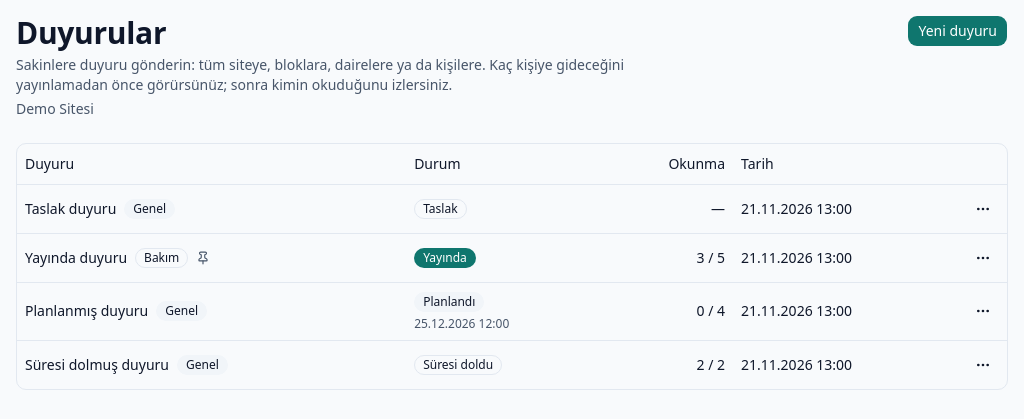
Duyurular (admin): the list › offers the right actions for a draft and for a published announcement
The image size is (1024, 419).
Click the button named "“Taslak duyuru” için işlemler" at (983, 208), box [967,192,999,224]
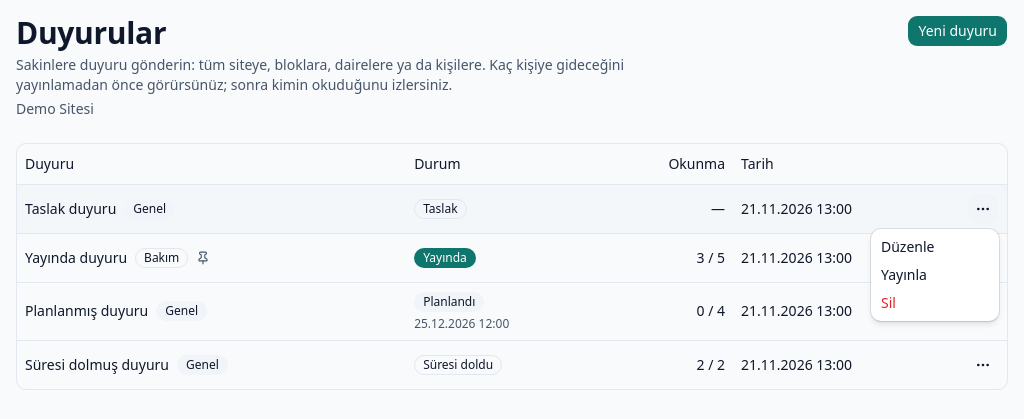
Expected: the menu item "Okuma raporu" is not shown
Expected: the menu item "Yayınla" is shown, [881,265,927,284]
Press Escape
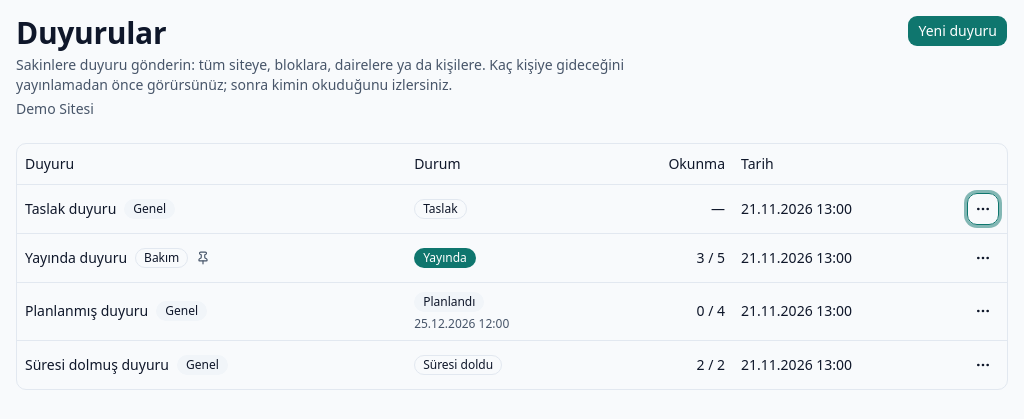
Click the button named "“Yayında duyuru” için işlemler" at (983, 258), box [967,242,999,274]
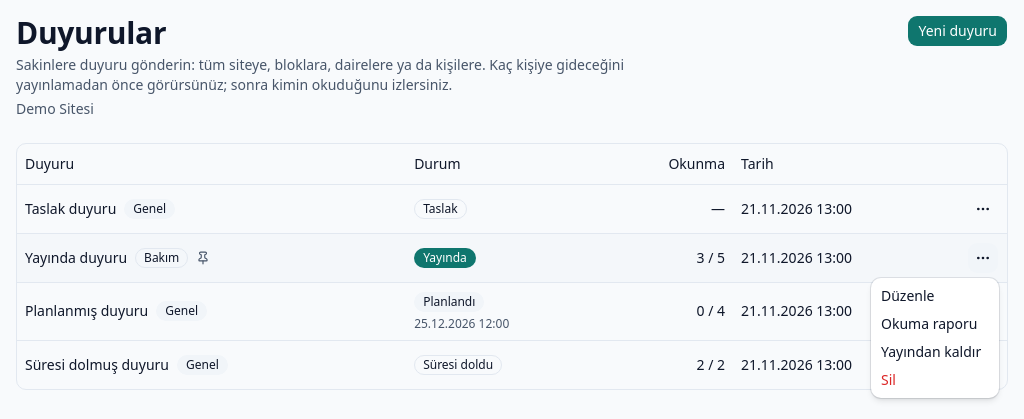
Expected: the menu item "Yayınla" is not shown
Expected: the menu item "Okuma raporu" is shown, [881,314,978,333]
Expected: the menu item "Yayından kaldır" is shown, [881,342,981,361]
